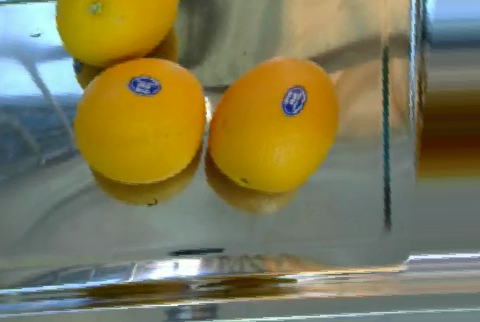Orange: (207, 55, 339, 191), (73, 57, 205, 184), (52, 0, 179, 68)
